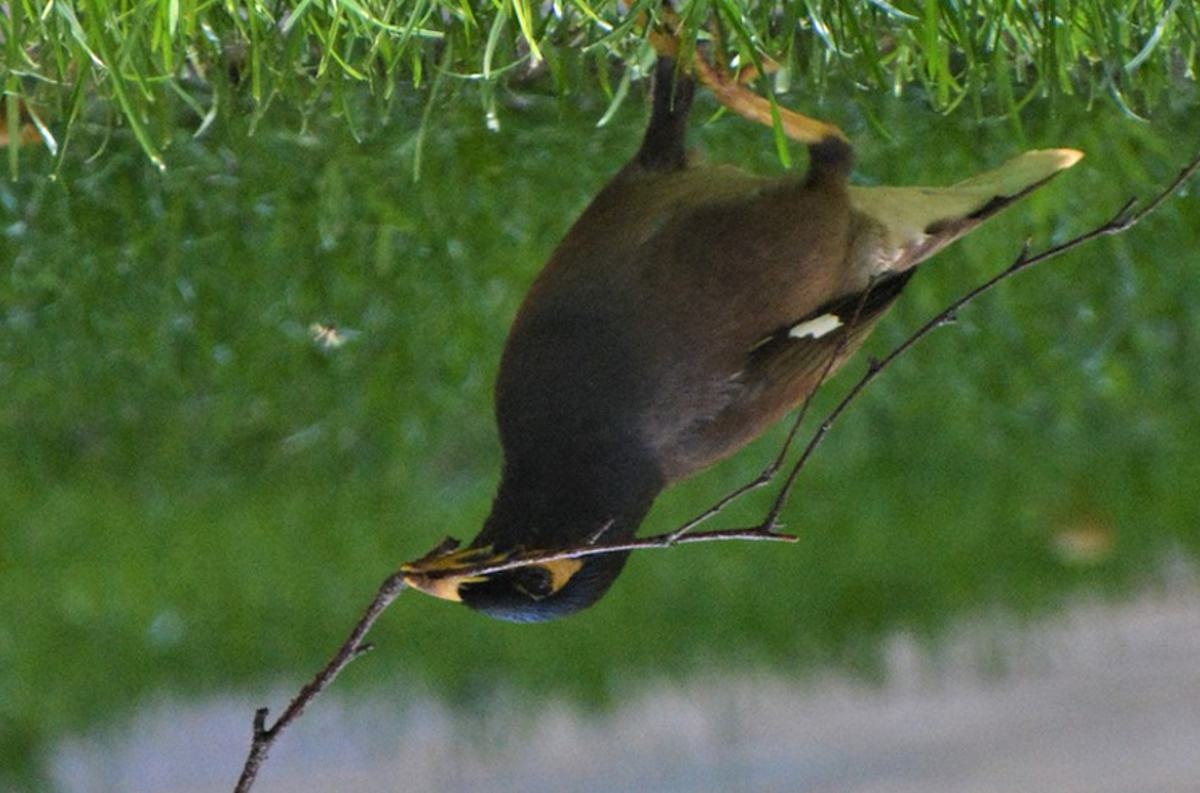myna: (401, 1, 1041, 633)
